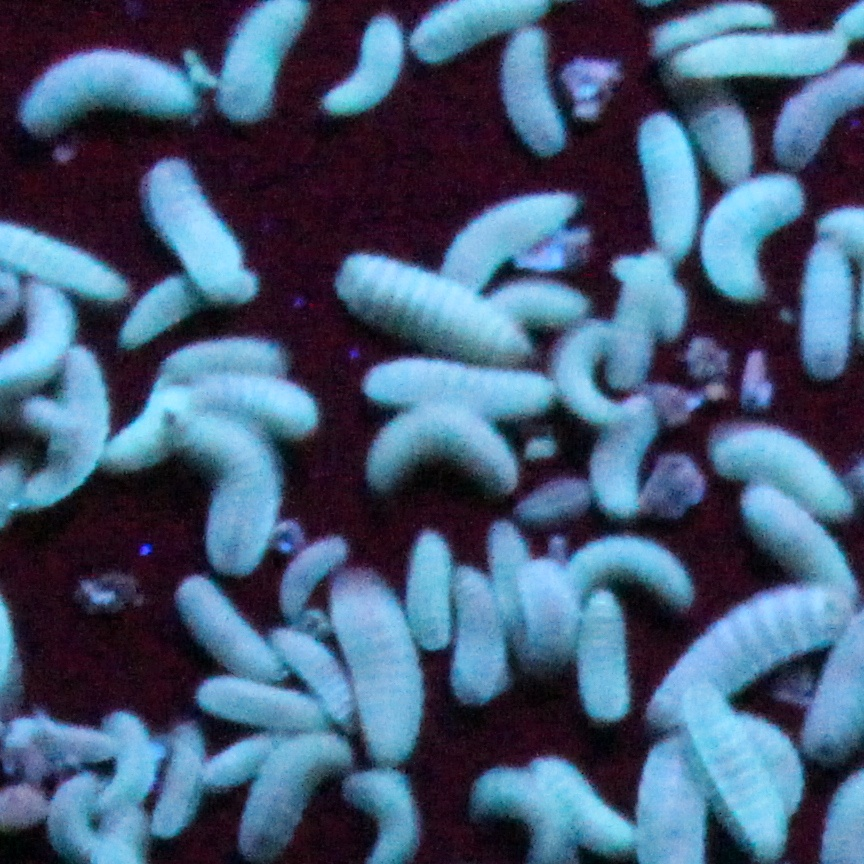larve: (652, 595, 852, 731), (335, 258, 540, 365), (682, 675, 794, 856), (335, 560, 423, 763), (143, 160, 264, 307), (6, 348, 108, 519), (177, 412, 282, 575), (21, 46, 199, 131), (701, 173, 804, 302), (716, 421, 852, 512), (369, 407, 523, 487), (440, 197, 584, 282), (743, 485, 857, 592), (184, 570, 284, 678), (221, 4, 308, 126), (638, 109, 703, 260), (669, 29, 845, 82), (501, 24, 569, 156), (562, 319, 643, 426), (543, 758, 633, 853), (582, 541, 699, 607), (325, 19, 406, 114), (196, 375, 318, 438), (452, 568, 508, 704), (191, 673, 328, 726), (584, 595, 640, 724), (118, 273, 199, 353), (111, 390, 194, 468), (272, 629, 347, 714), (160, 334, 289, 382), (518, 565, 577, 668), (277, 541, 350, 624), (99, 709, 157, 812), (203, 726, 286, 795), (591, 419, 647, 521), (621, 260, 686, 346), (408, 534, 455, 648), (696, 109, 762, 185), (21, 724, 113, 775), (486, 517, 523, 617)
